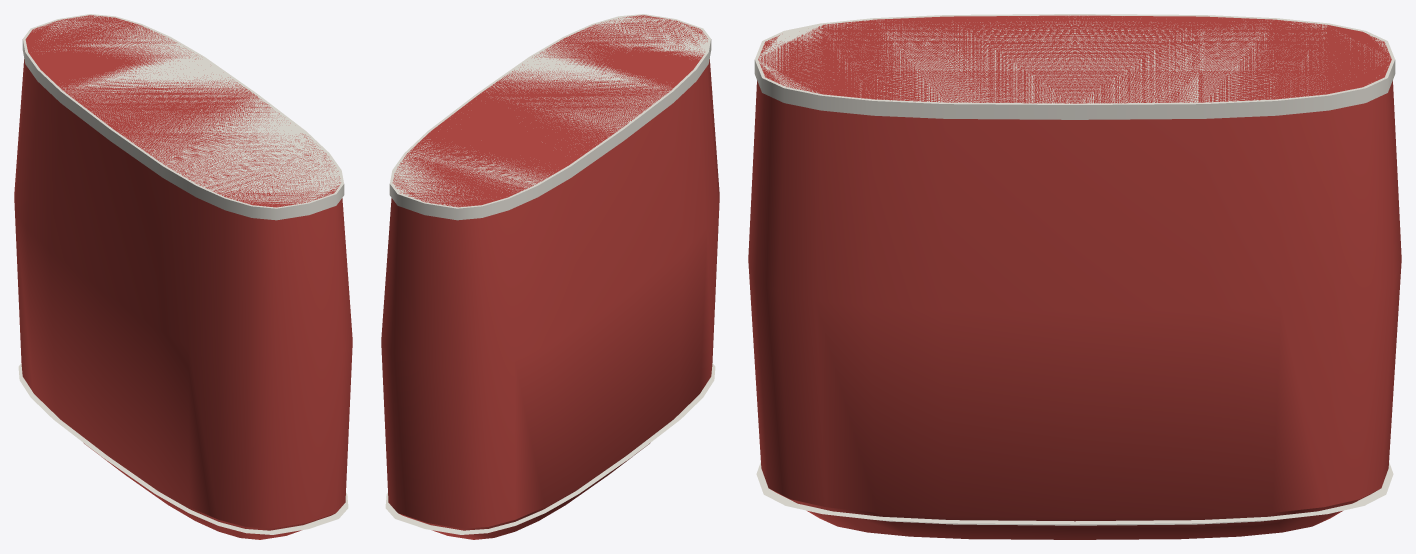
Rendered from throw_over.glb.
3 views of the same model, side by side, from view 1: azimuth 30°, elevation 25°; view 2: azimuth 150°, elevation 25°; view 3: azimuth 270°, elevation 25° (orthographic). The views are drawn at different scales.
Parts seen in each view (by area): view 1: lod0; view 2: lod0; view 3: lod0.
Boxes of the visible parts, x1=… form: lod0: x1=14, y1=14, x2=352, y2=539; lod0: x1=381, y1=14, x2=719, y2=539; lod0: x1=748, y1=14, x2=1401, y2=539.
Size of what is drawn, in the model's own units: 0.15 by 0.3 by 0.4.
